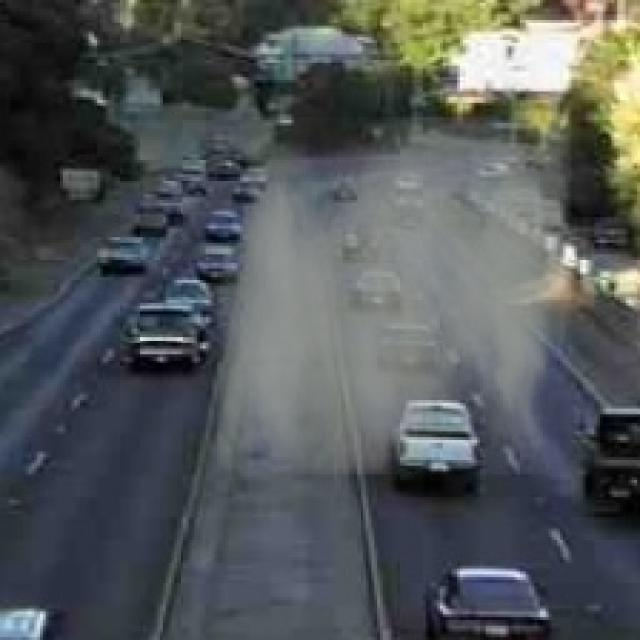smoke: (217, 117, 572, 474)
